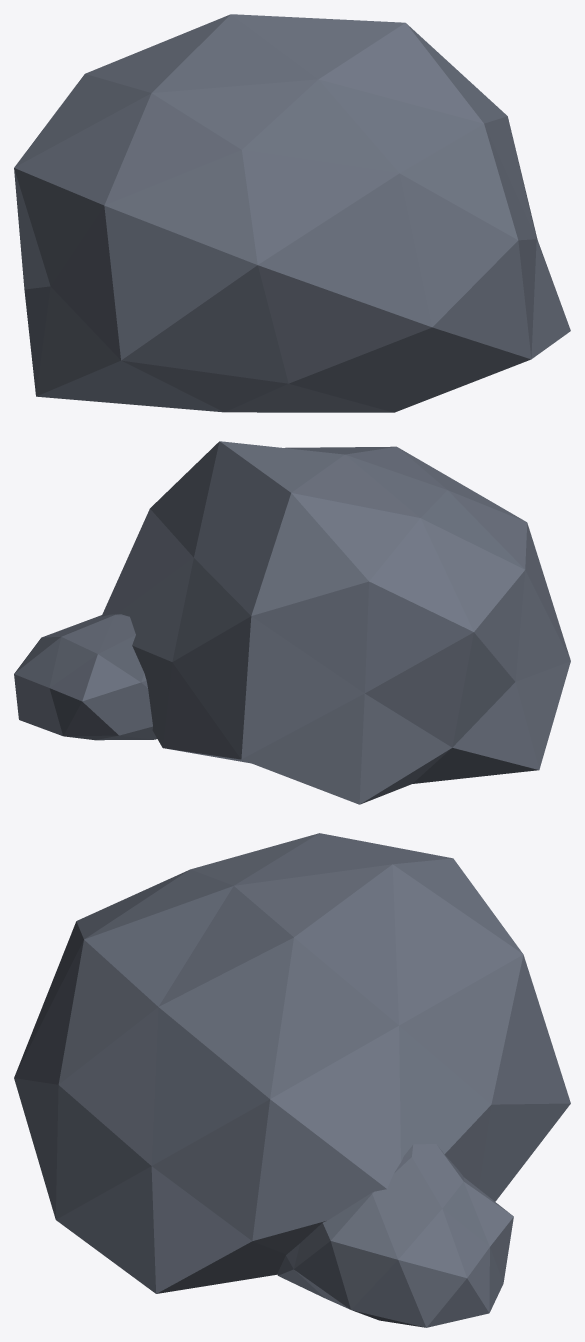
Rendered from RockSmall.fbx.
3 views of the same model, one above another, from view 1: azimuth 30°, elevation 25°; view 2: azimuth 150°, elevation 25°; view 3: azimuth 270°, elevation 25° (orthographic). The views are drawn at different scales.
Parts seen in each view (by area): view 1: RockSmall; view 2: RockSmall; view 3: RockSmall.
Boxes of the visible parts, <box> form: RockSmall: <box>14,14,570,412</box>; RockSmall: <box>14,441,570,804</box>; RockSmall: <box>14,833,570,1327</box>.
Size of the model in its own units: 0.7062 by 0.3687 by 0.5992.
